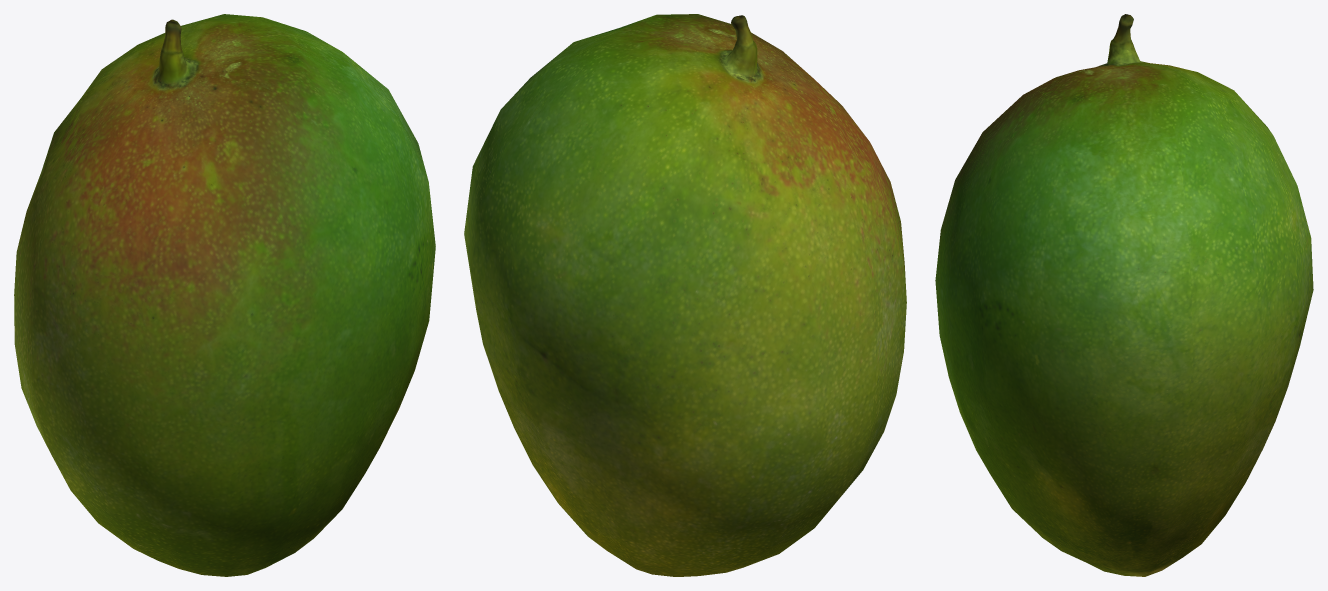
Rendered from 2_aam.fbx.
3 renders of one model, left to right at view 1: azimuth 30°, elevation 25°; view 2: azimuth 150°, elevation 25°; view 3: azimuth 270°, elevation 25°, orthographic. The views are drawn at different scales.
Visible parts, largest first — view 1: amm; view 2: amm; view 3: amm.
Part boxes in pixels (left/top/right/bottom): amm: left=14, top=14, right=435, bottom=576; amm: left=464, top=14, right=906, bottom=576; amm: left=935, top=14, right=1313, bottom=576.
Bounding box in the file's own units: 8.15 × 11.35 × 7.44.
